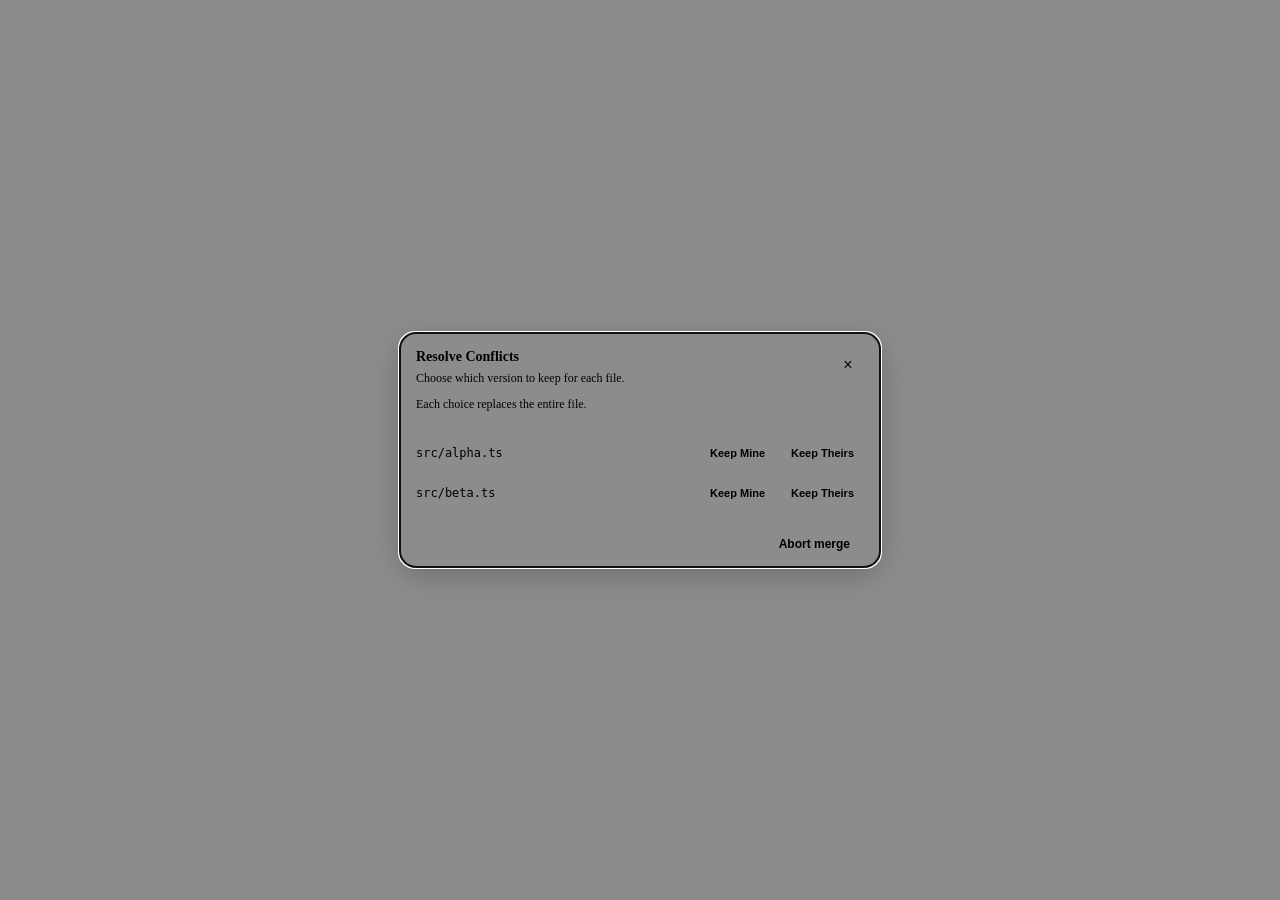
Test: ConflictResolver › shows the complete area only after all files are resolved
Expected: the button "Complete merge" is not shown
resolve first file
Click the button "Keep Mine" in the row of "src/alpha.ts" at (738, 453), box [700, 443, 775, 463]
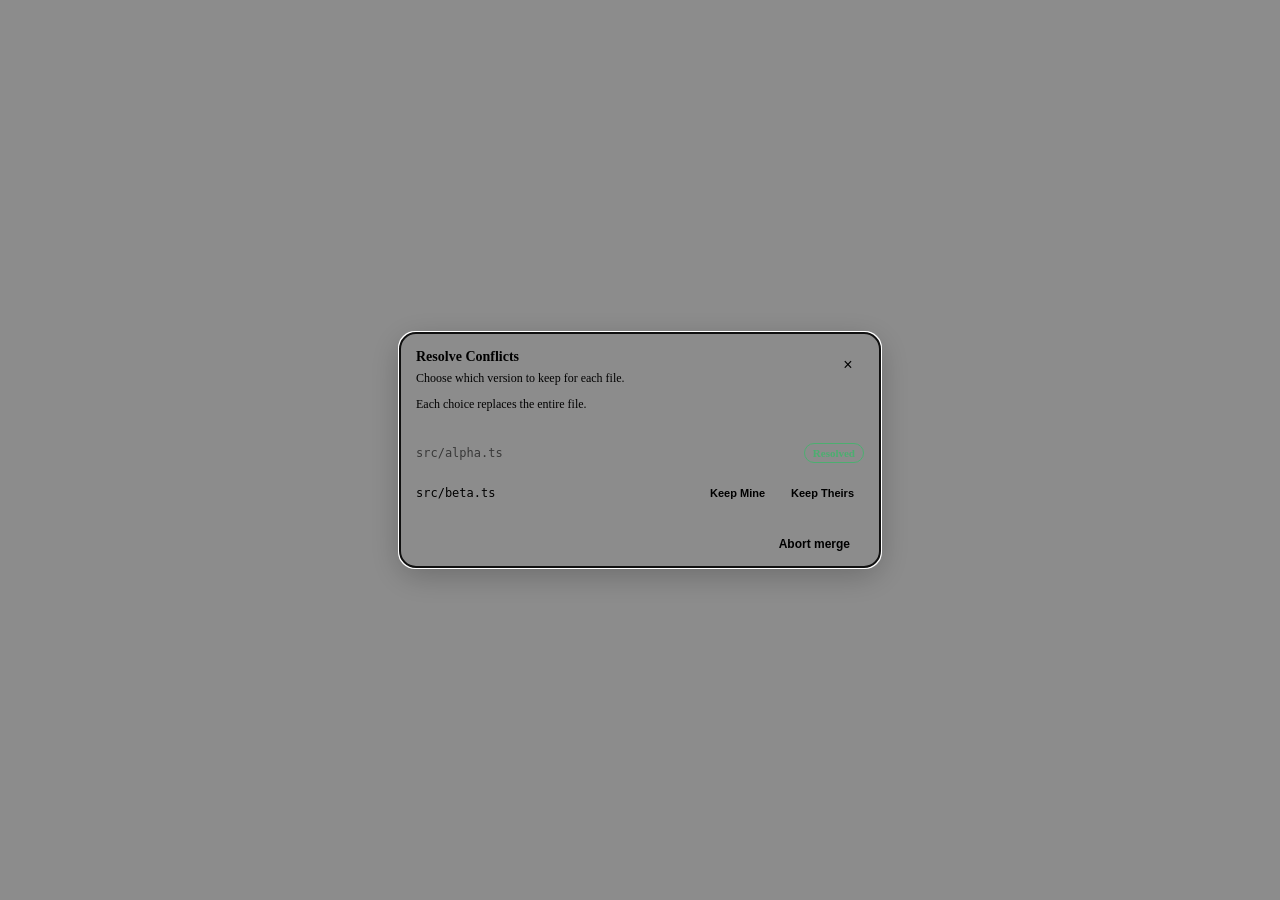
Expected: the button "Complete merge" is not shown
Now the text "Resolved" is shown once, box [804, 443, 864, 463]
resolve second file
Click the button "Keep Mine" at (738, 493), box [700, 483, 775, 503]
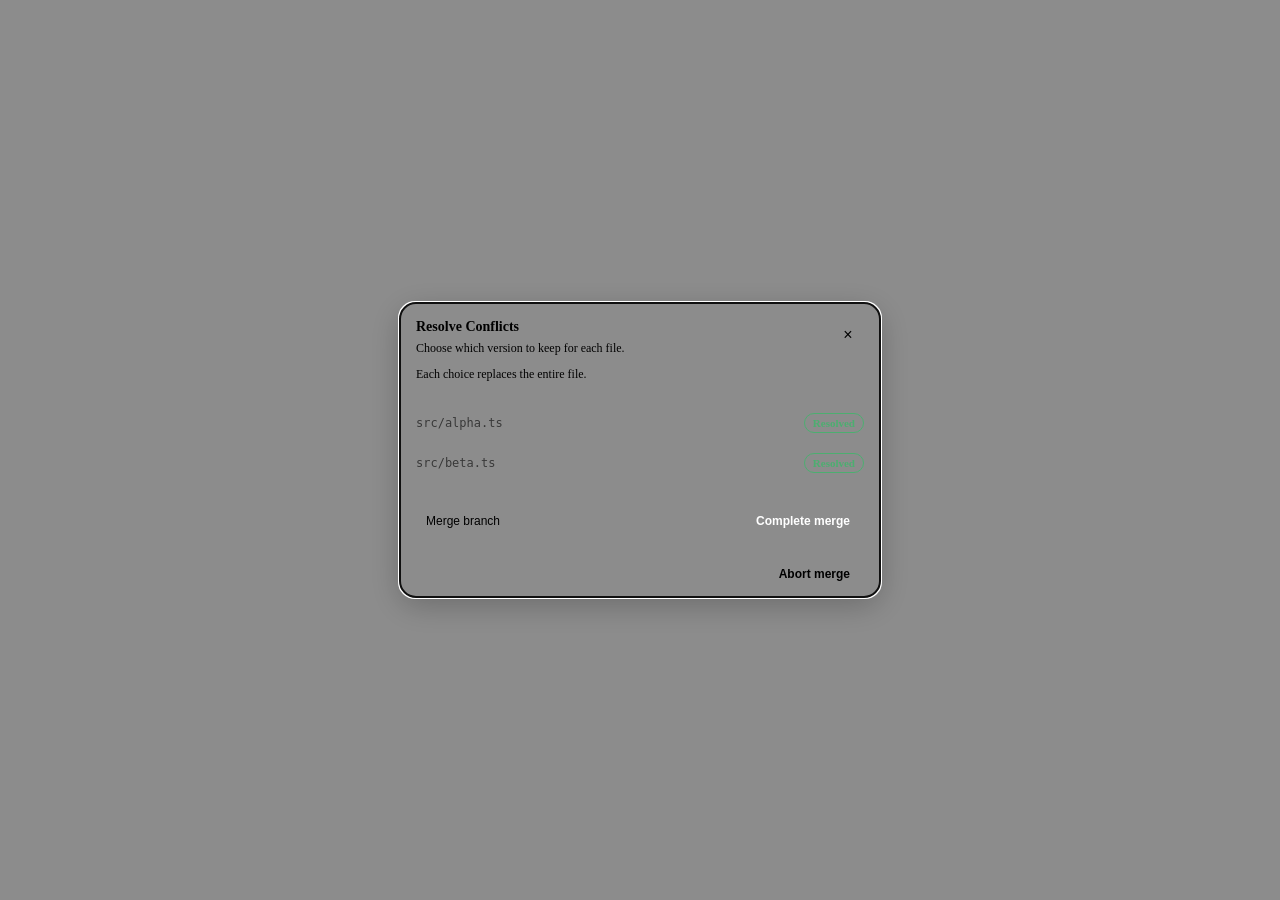
Now the text "Resolved" is shown 2 times, box [804, 413, 864, 433]; [804, 453, 864, 473]
Now the button "Complete merge" is shown, box [742, 503, 864, 539]
